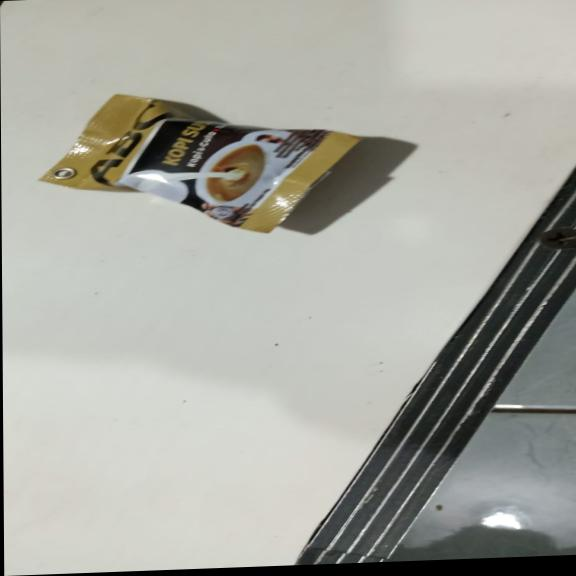Plastik: (38, 84, 363, 241)
